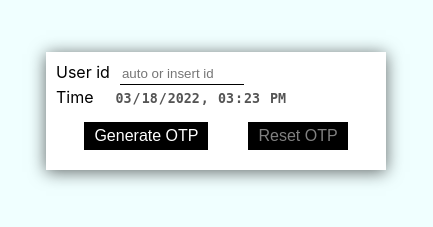
Test: Form component › otp generate button becomes disabled and the reset otp button enabled if otp generate button is clicked
What coordinates should you click on to do the following:
click the button "Generate OTP"
I would click on:
 (146, 136)
Its box is 84,122 -> 208,150.
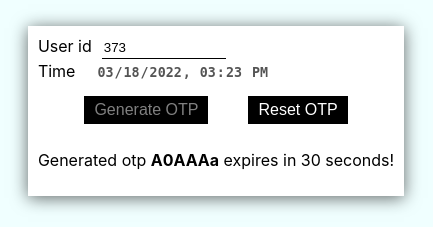
Result: the button "Generate OTP" is disabled at 84,96 -> 208,124
Result: the button "Reset OTP" is enabled at 248,96 -> 348,124
